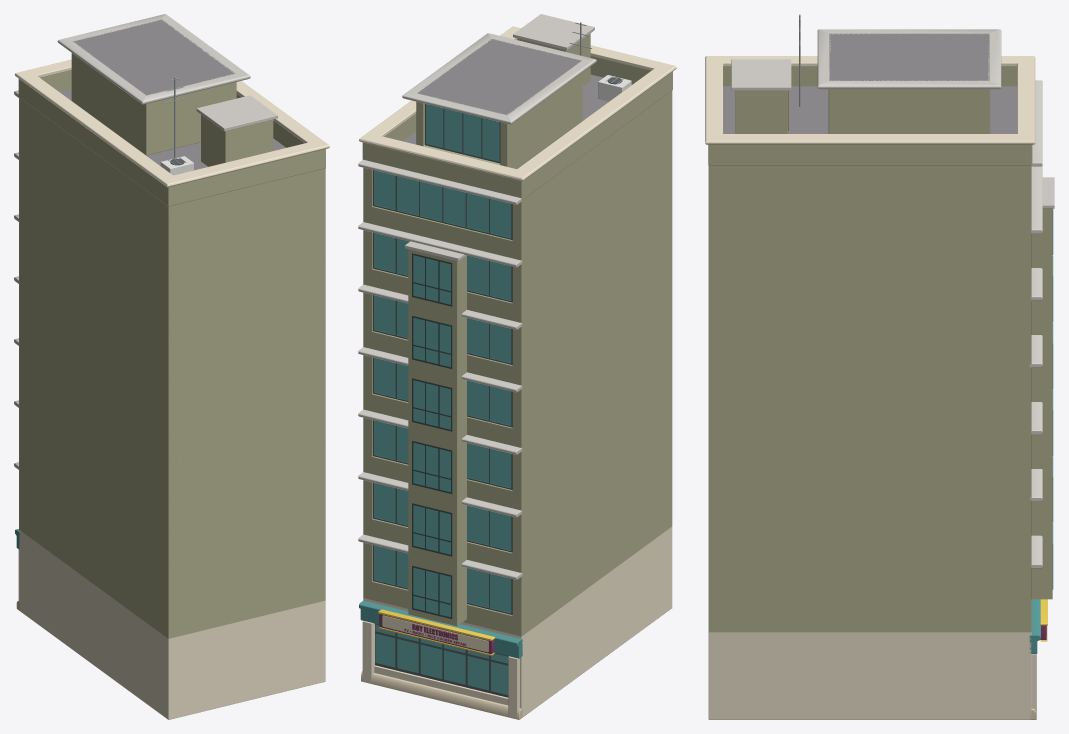
Rendered from far_stucco_06.glb.
The picture shows the model from 3 angles, left to right: view 1: azimuth 30°, elevation 25°; view 2: azimuth 150°, elevation 25°; view 3: azimuth 270°, elevation 25°; orthographic projection. The views are drawn at different scales.
Visible parts, largest first — view 1: shell, trim, penthouse, props; view 2: shell, trim, props, penthouse, frames, sign_boy_electronics, penthouse frames; view 3: shell, trim, penthouse, props.
Part boxes in pixels (x1,y1,x2,y2): shell: (19,88,325,719); trim: (14,14,329,610); penthouse: (71,19,236,155); props: (160,77,277,175); shell: (363,74,672,717); trim: (358,26,676,719); props: (405,14,631,625); penthouse: (416,39,582,168); frames: (373,170,512,697); sign_boy_electronics: (377,609,495,655); penthouse frames: (425,104,500,163); shell: (708,86,1031,719); trim: (705,29,1042,719); penthouse: (828,33,990,133); props: (731,14,1054,599).
Bounding box in the file's own units: 8.81 × 30.98 × 15.15.
